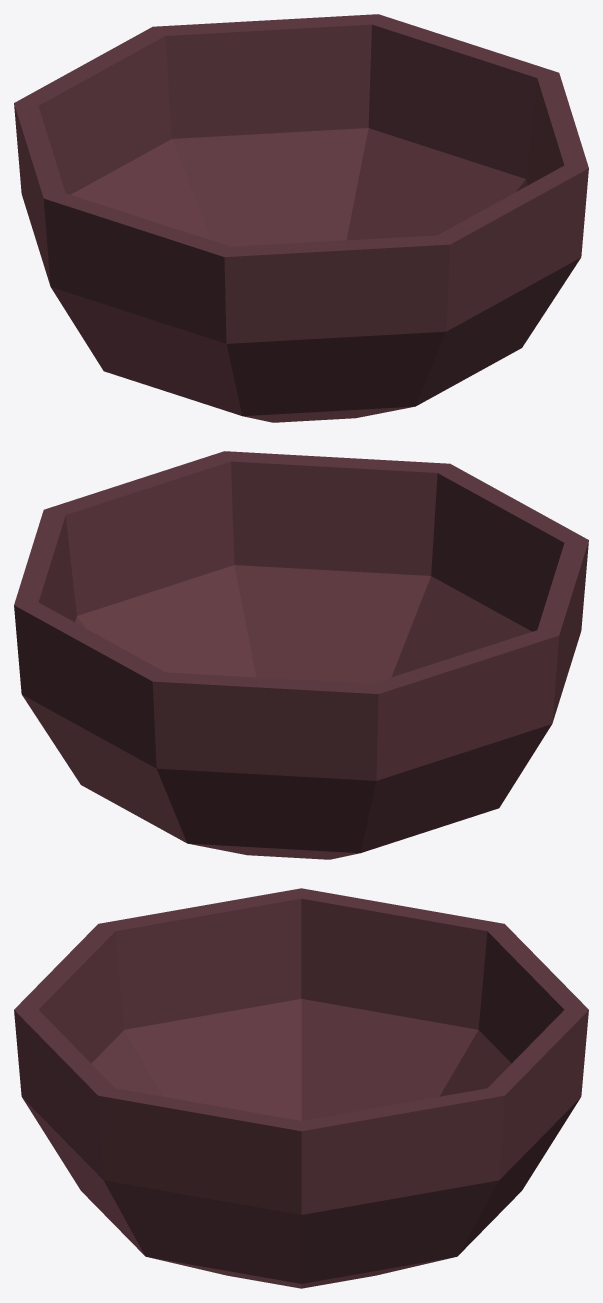
Rendered from dishes-bowl-serving.glb.
3 renders of one model, top to bottom at view 1: azimuth 30°, elevation 25°; view 2: azimuth 150°, elevation 25°; view 3: azimuth 270°, elevation 25°, orthographic. The views are drawn at different scales.
Parts seen in each view (by area): view 1: bowl-serving; view 2: bowl-serving; view 3: bowl-serving.
Boxes of the visible parts, x1=… form: bowl-serving: x1=14, y1=14, x2=588, y2=422; bowl-serving: x1=14, y1=451, x2=588, y2=859; bowl-serving: x1=14, y1=888, x2=588, y2=1288.
Size of the model in its own units: 0.2 by 0.09 by 0.2.
